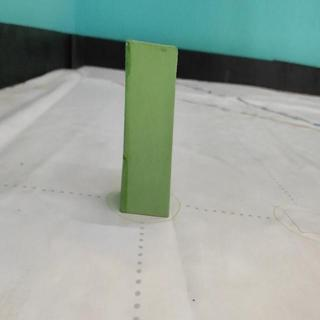greenbox: (121, 29, 178, 219)
